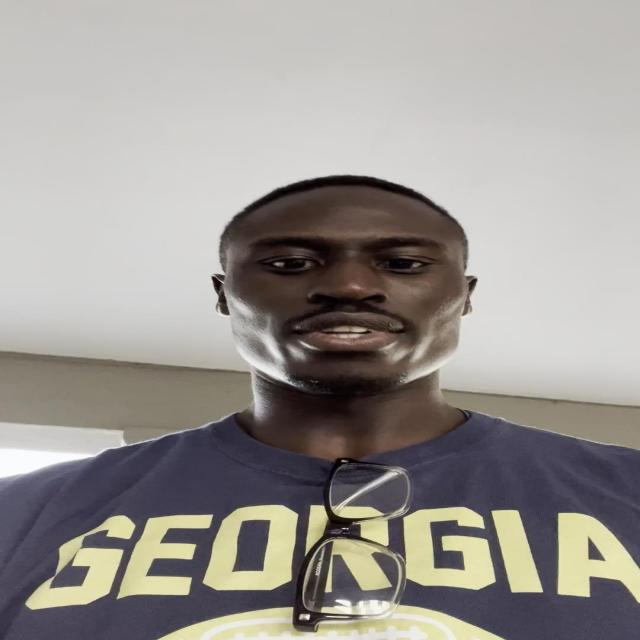NO-Mask: (228, 185, 472, 394)
